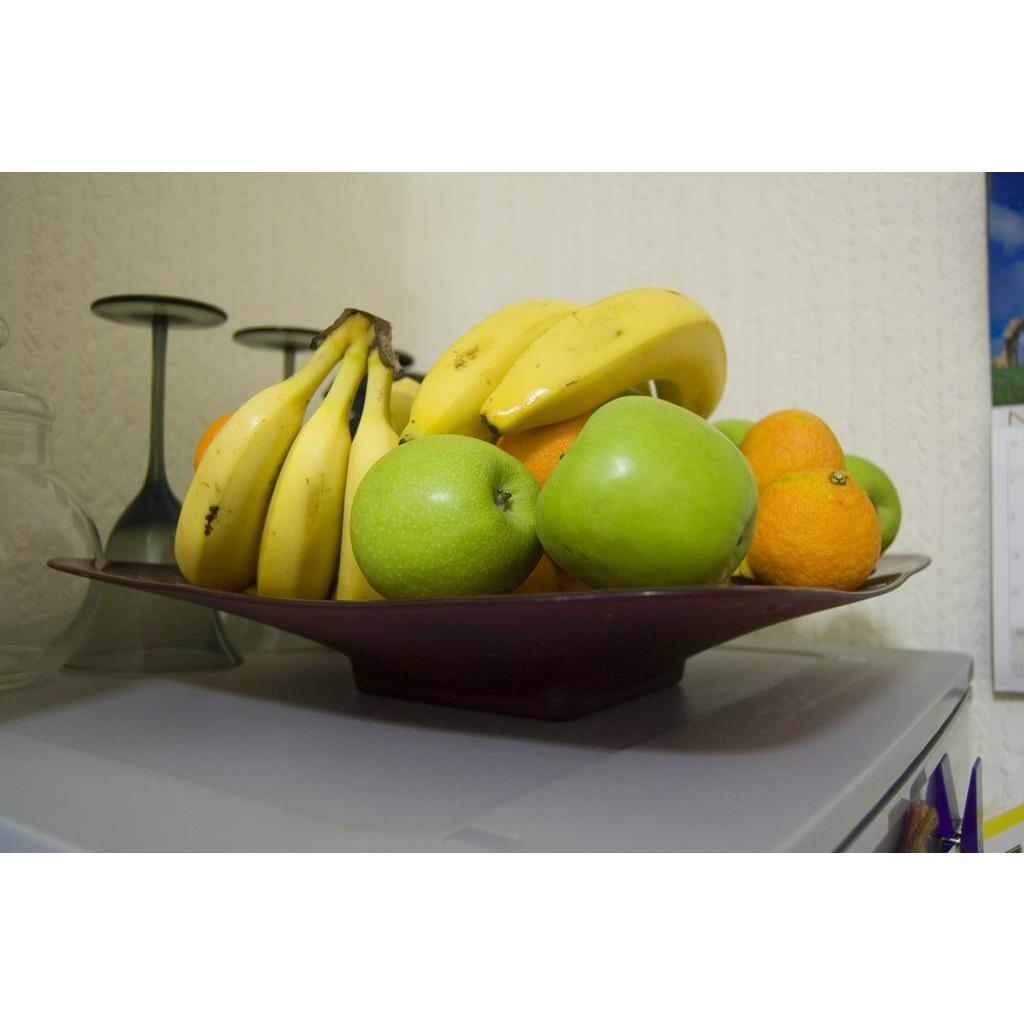banana: (477, 288, 727, 448), (173, 375, 309, 588), (250, 359, 357, 603)
